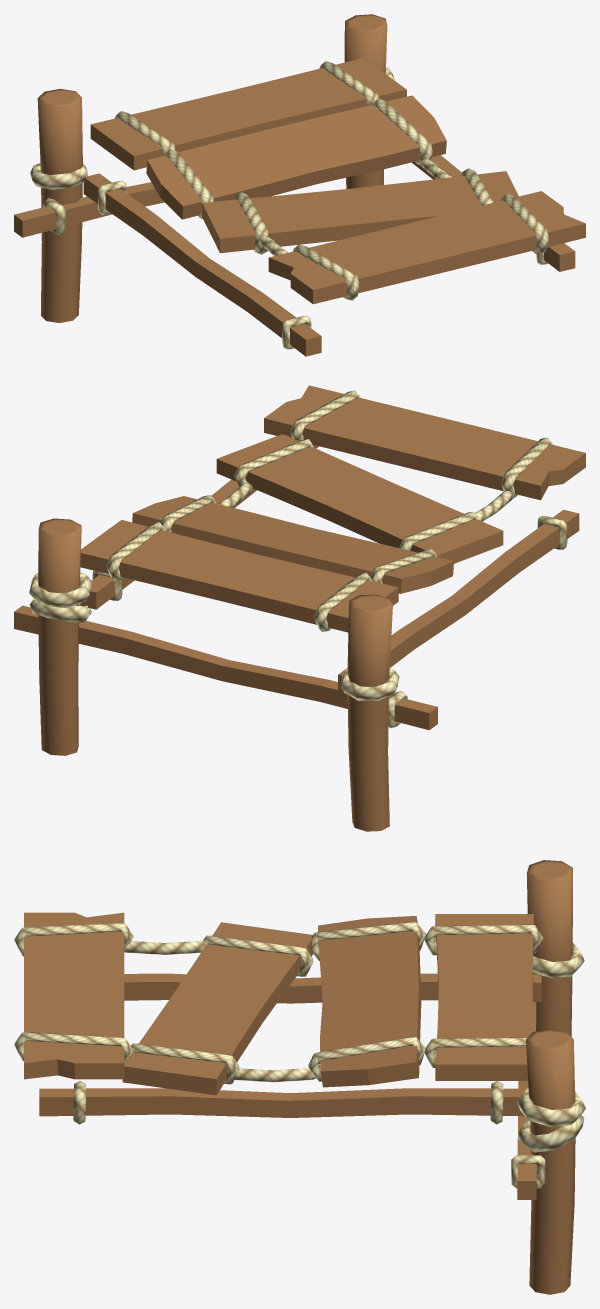
File: H_Ponton_03.fbx
3 renders of one model, top to bottom at view 1: azimuth 30°, elevation 25°; view 2: azimuth 150°, elevation 25°; view 3: azimuth 270°, elevation 25°, orthographic. The views are drawn at different scales.
Parts seen in each view (by area): view 1: H_Ponton_03; view 2: H_Ponton_03; view 3: H_Ponton_03.
Part boxes in pixels (x1=…): H_Ponton_03: x1=14, y1=14, x2=585, y2=356; H_Ponton_03: x1=14, y1=385, x2=585, y2=831; H_Ponton_03: x1=14, y1=860, x2=585, y2=1294.
Size of the model in its own units: 300 by 152 by 321.
